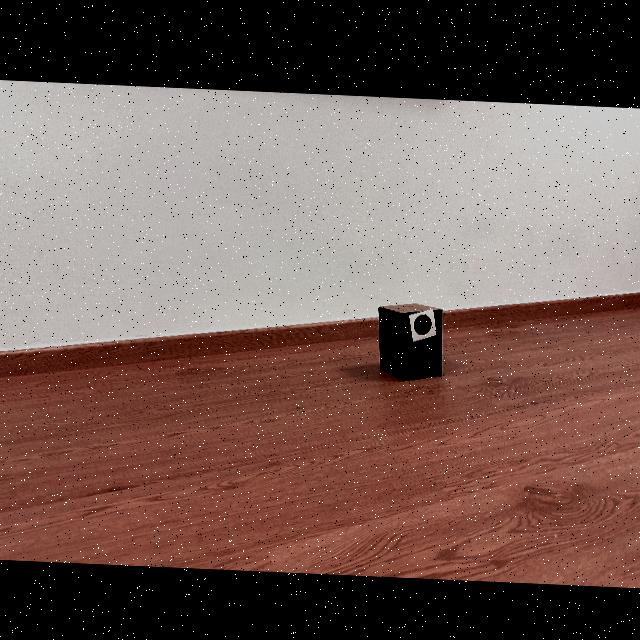CIRCLE: (414, 311, 431, 331)
